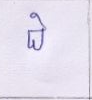e_matra: (30, 13, 49, 28)
